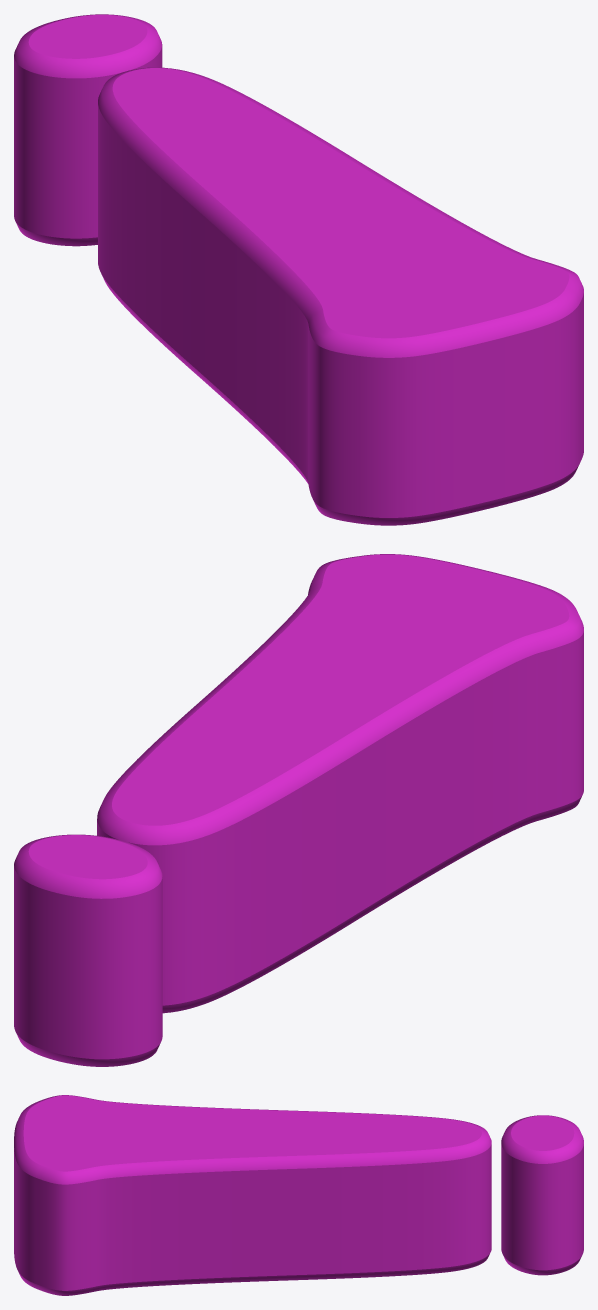
File: ExclamationMark.fbx
3 views of the same model, one above another, from view 1: azimuth 30°, elevation 25°; view 2: azimuth 150°, elevation 25°; view 3: azimuth 270°, elevation 25° (orthographic). The views are drawn at different scales.
Visible parts, largest first — view 1: ExclamationMark; view 2: ExclamationMark; view 3: ExclamationMark.
Part boxes in pixels (<box>): ExclamationMark: <box>14,14,583,525</box>; ExclamationMark: <box>14,554,583,1066</box>; ExclamationMark: <box>14,1095,583,1295</box>.
Size of the model in its own units: 0.2046 by 0.14 by 0.5831.
